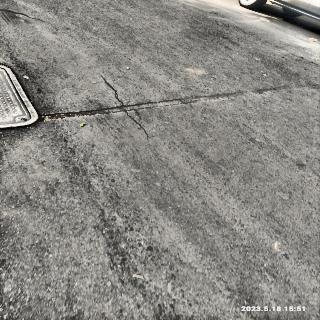crack: (100, 74, 150, 142), (1, 8, 42, 21)
pothole: (37, 97, 190, 124)
